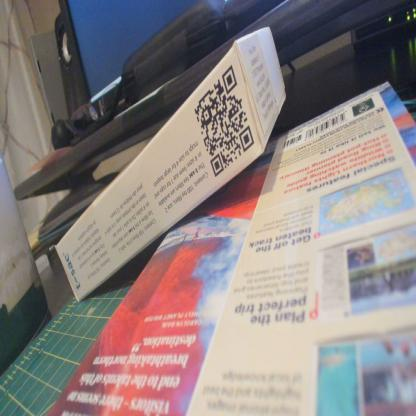barcode: (306, 110, 349, 139), (280, 131, 303, 151)
qr: (183, 62, 264, 179)
